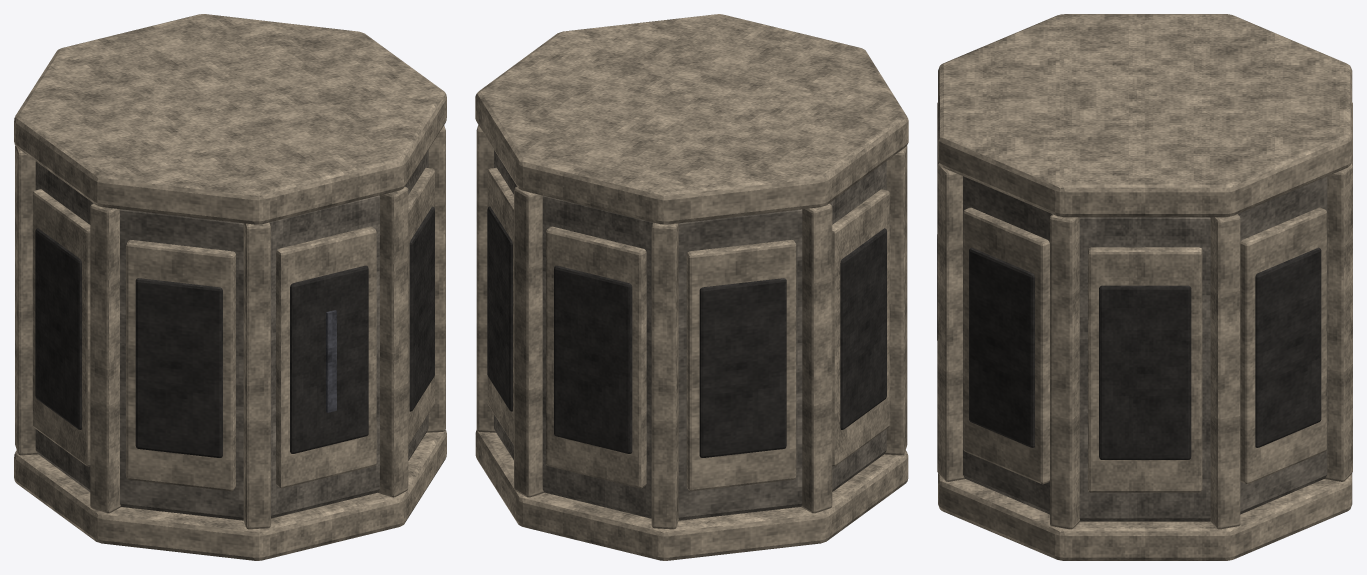
The model's file is shaft_octagon.glb.
The picture shows the model from 3 angles, left to right: view 1: azimuth 30°, elevation 25°; view 2: azimuth 150°, elevation 25°; view 3: azimuth 270°, elevation 25°; orthographic projection. The views are drawn at different scales.
Parts seen in each view (by area): view 1: collar, body.001, foot, pan7_fill.001, pan0_fill.001, pan7_frame.001, pan0_frame.001, pil6, pil0, pil7, pan6_fill.001, pan6_frame.001 (+5 smaller); view 2: collar, body.001, foot, pan5_fill.001, pan4_fill.001, pan5_frame.001, pan4_frame.001, pil5, pil3, pil4, pan6_fill.001, pan6_frame.001 (+4 smaller); view 3: collar, body.001, foot, pan2_fill.001, pan2_frame.001, pan3_fill.001, pan1_fill.001, pan3_frame.001, pan1_frame.001, pil2, pil1, pil0 (+1 smaller).
Part boxes in pixels (x1=…): collar: x1=14, y1=14, x2=446, y2=224; body.001: x1=35, y1=150, x2=428, y2=520; foot: x1=14, y1=430, x2=446, y2=560; pan7_fill.001: x1=135, y1=278, x2=222, y2=457; pan0_fill.001: x1=290, y1=265, x2=368, y2=453; pan7_frame.001: x1=126, y1=240, x2=235, y2=491; pan0_frame.001: x1=276, y1=226, x2=376, y2=488; pil6: x1=90, y1=203, x2=120, y2=513; pil0: x1=378, y1=186, x2=408, y2=497; pil7: x1=243, y1=222, x2=270, y2=529; pan6_fill.001: x1=35, y1=228, x2=81, y2=429; pan6_frame.001: x1=32, y1=189, x2=90, y2=466; collar: x1=475, y1=14, x2=908, y2=224; body.001: x1=494, y1=150, x2=886, y2=520; foot: x1=475, y1=429, x2=908, y2=560; pan5_fill.001: x1=699, y1=278, x2=786, y2=457; pan4_fill.001: x1=554, y1=265, x2=632, y2=453; pan5_frame.001: x1=686, y1=240, x2=796, y2=491; pan4_frame.001: x1=546, y1=226, x2=646, y2=488; pil5: x1=801, y1=203, x2=832, y2=513; pil3: x1=514, y1=187, x2=544, y2=497; pil4: x1=651, y1=222, x2=678, y2=529; pan6_fill.001: x1=840, y1=228, x2=886, y2=429; pan6_frame.001: x1=832, y1=189, x2=889, y2=466; collar: x1=938, y1=14, x2=1352, y2=217; body.001: x1=963, y1=176, x2=1327, y2=521; foot: x1=938, y1=473, x2=1352, y2=560; pan2_fill.001: x1=1099, y1=285, x2=1191, y2=459; pan2_frame.001: x1=1088, y1=247, x2=1202, y2=492; pan3_fill.001: x1=1255, y1=247, x2=1321, y2=447; pan1_fill.001: x1=969, y1=247, x2=1034, y2=447; pan3_frame.001: x1=1240, y1=207, x2=1326, y2=484; pan1_frame.001: x1=963, y1=207, x2=1049, y2=484; pil2: x1=1210, y1=214, x2=1240, y2=529; pil1: x1=1050, y1=214, x2=1079, y2=529; pil0: x1=937, y1=164, x2=964, y2=481.
Size of the model in its own units: 0.7998 by 0.8 by 0.8005.
Materials: 4 (4 with a texture image).
